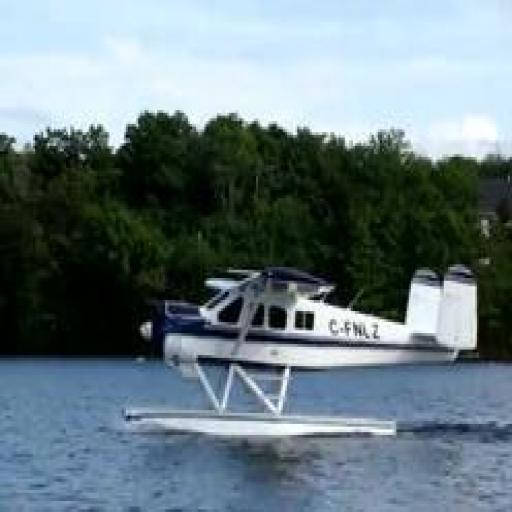aircraft: (118, 260, 478, 439)
